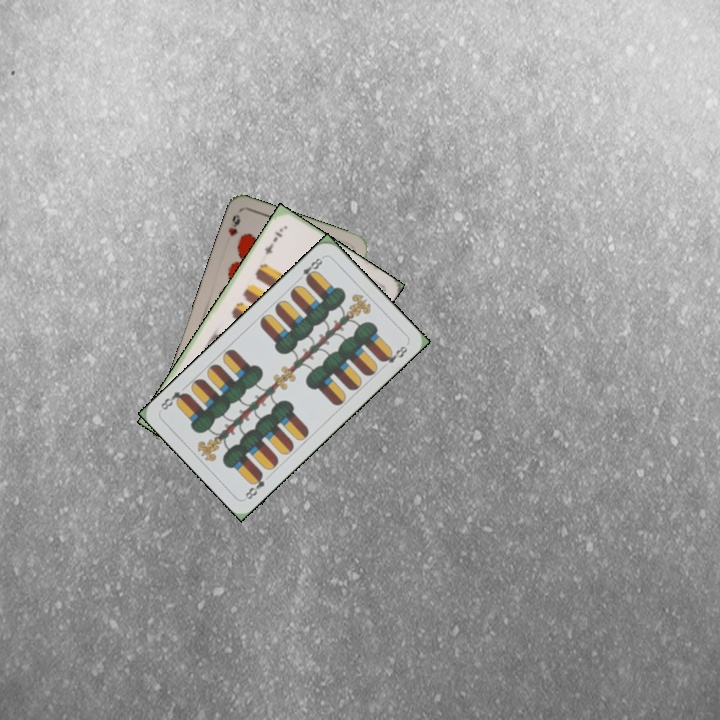E7: (260, 224, 286, 257)
E8: (293, 252, 327, 285), (241, 469, 268, 502)
H9: (224, 210, 243, 239)
